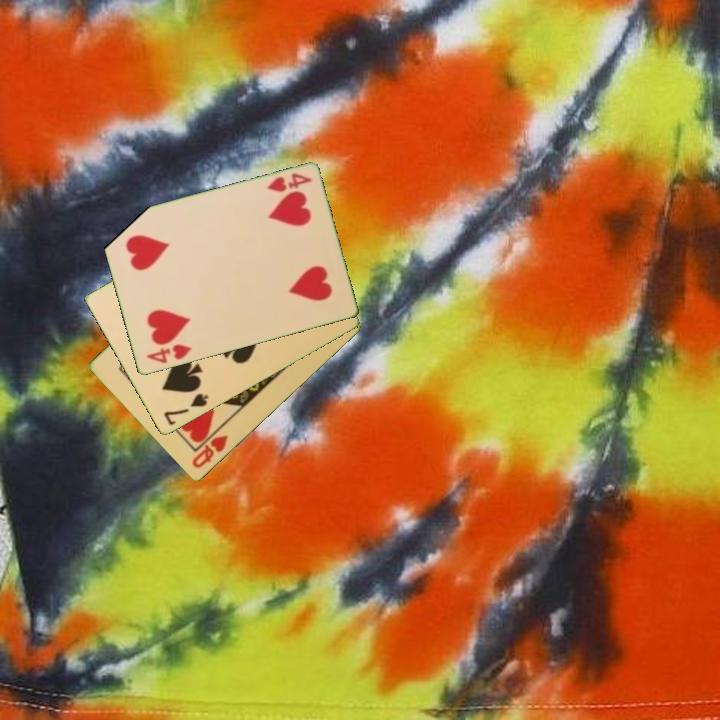4h: (142, 341, 195, 367), (264, 170, 315, 196)
7s: (160, 390, 211, 429)
Qh: (189, 431, 231, 471)
